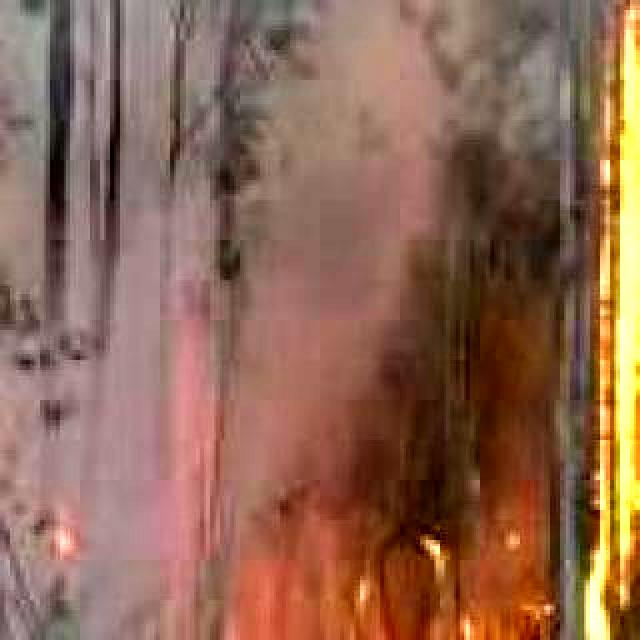fire: (608, 0, 640, 640), (324, 570, 544, 640)
